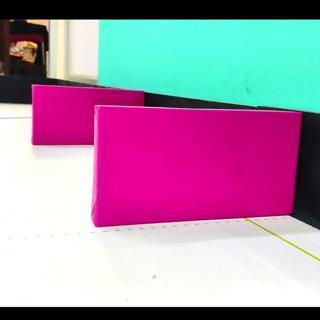xparking: (98, 108, 300, 228), (34, 87, 94, 145)
